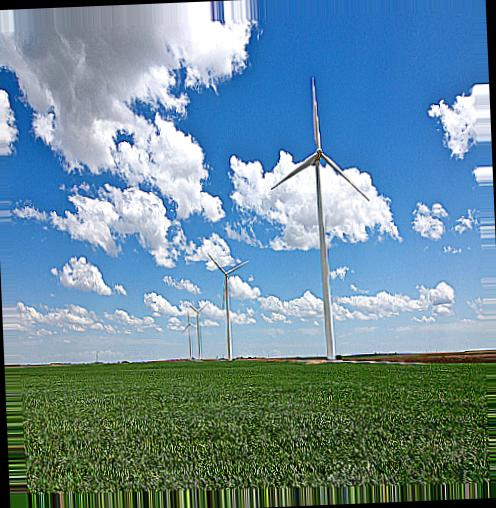wind turbine: (271, 74, 370, 367), (206, 253, 251, 362), (192, 299, 210, 362)
